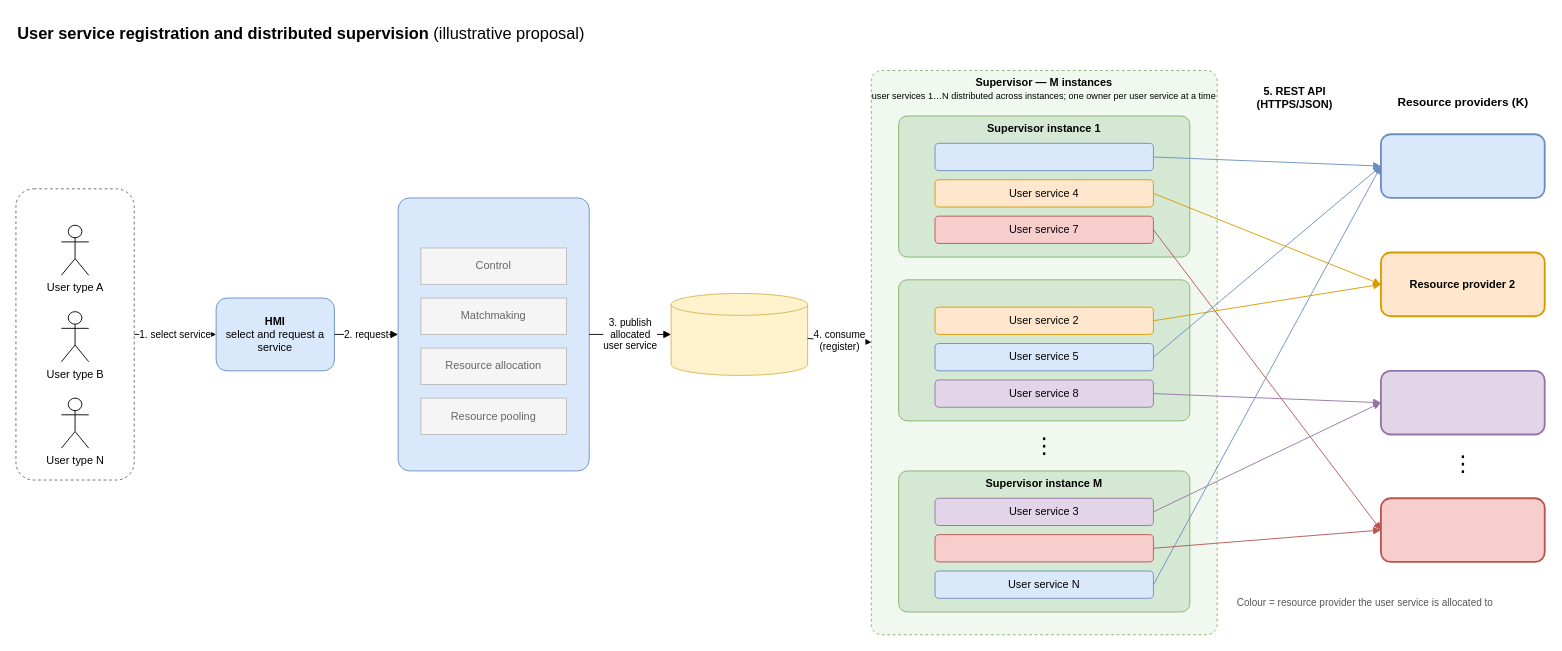
This 1562x651 diagram has some shape labels left out. Here are the shapes that lost their labels. From the top down, the box of each, then its label:
(934, 142, 1153, 171): User service 1
(1380, 133, 1545, 198): Resource provider 1
(15, 188, 134, 480): Users (many, several kinds)
(397, 197, 589, 471): Service System internals acknowledged, out of scope
(670, 293, 808, 375): AMQP 1.0 message broker durable queue(s)
(898, 279, 1190, 421): Supervisor instance 2
(1380, 369, 1545, 435): Resource provider 3
(934, 534, 1153, 562): User service 6
(1380, 497, 1545, 562): Resource provider K
